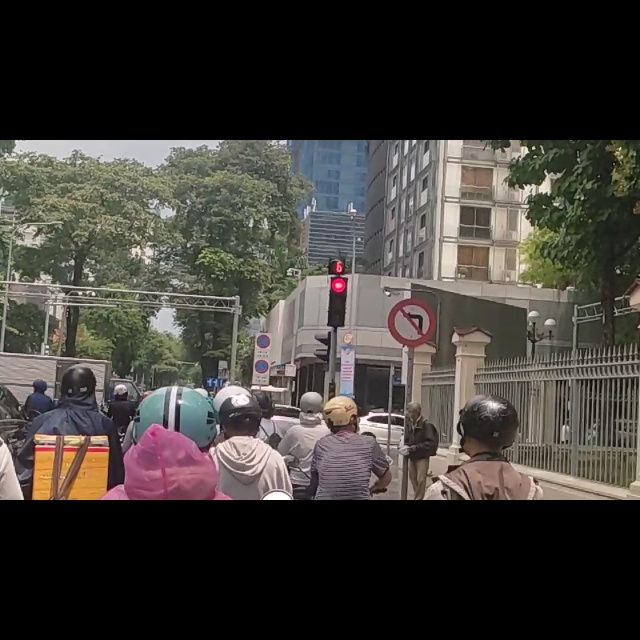bien_cam: (387, 282, 437, 371), (255, 345, 271, 373), (253, 389, 269, 417)
